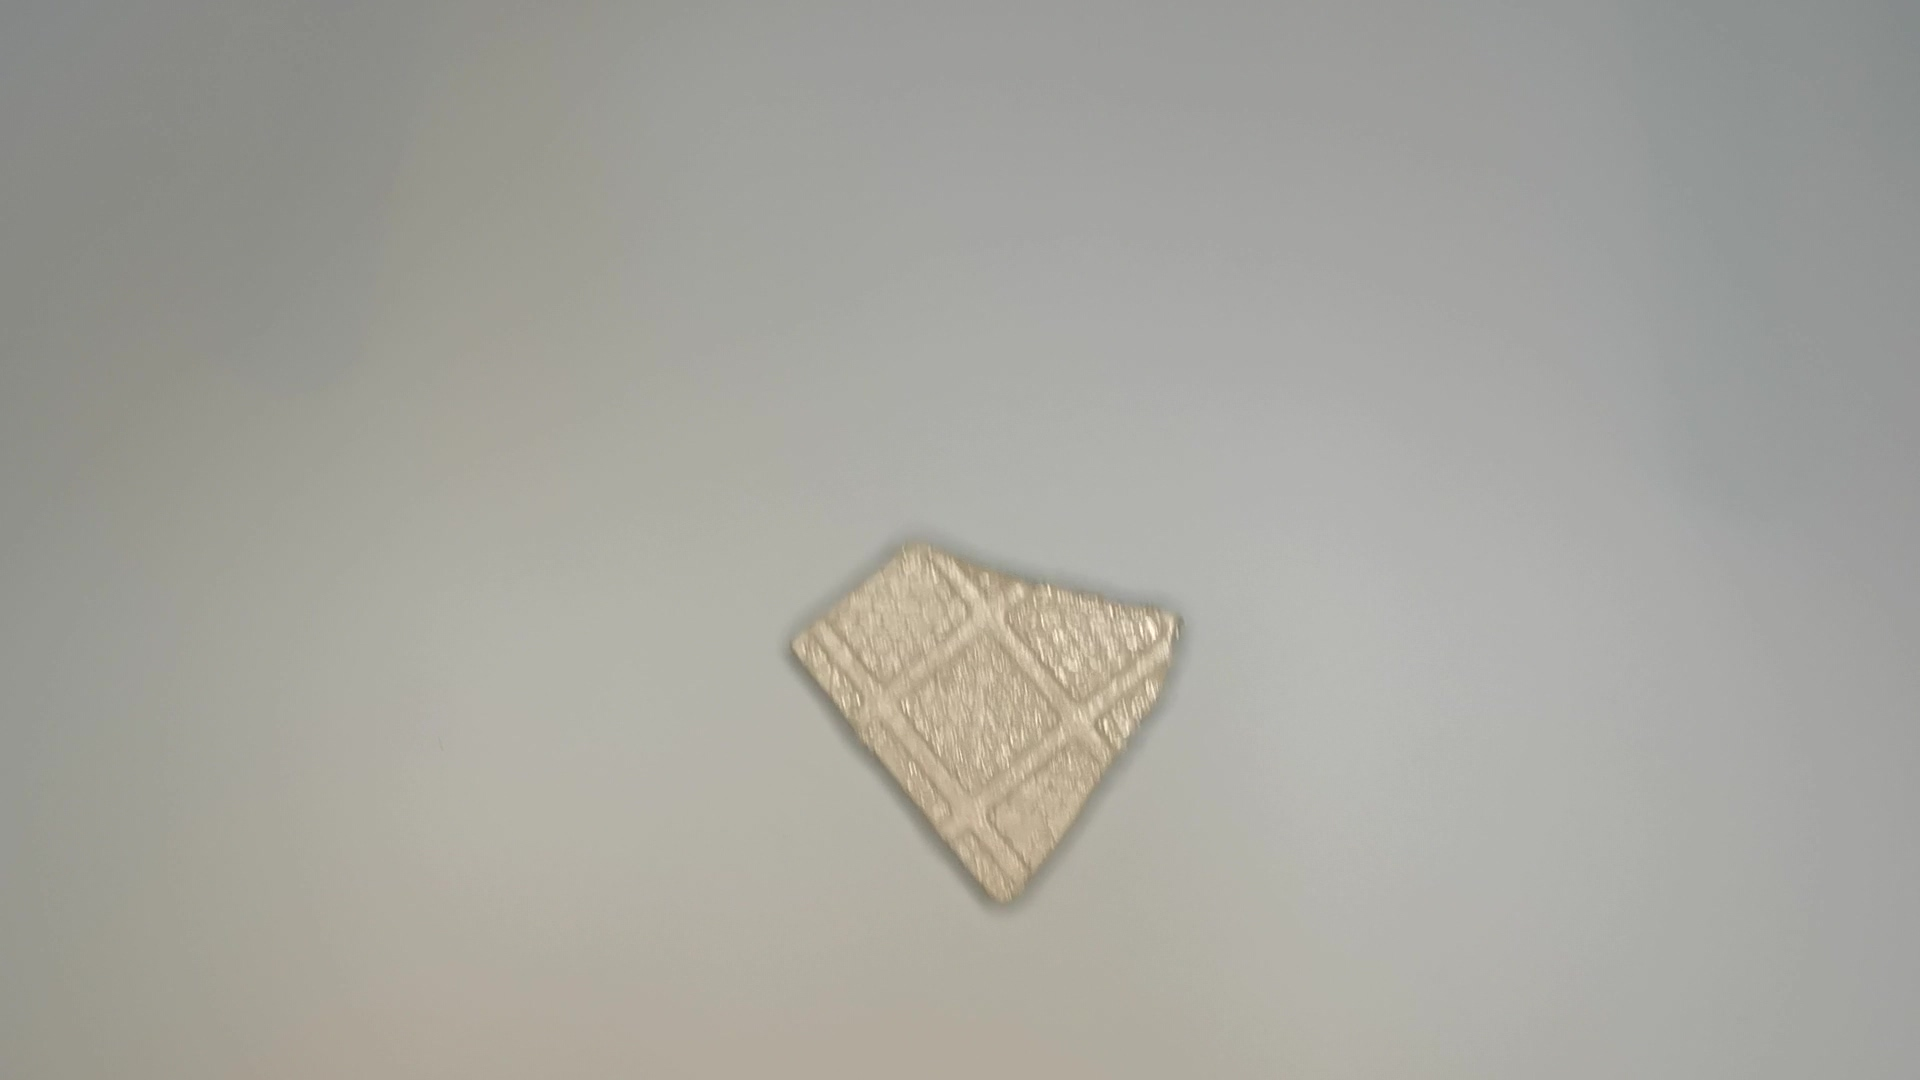ceramic: (770, 537, 1195, 916)
